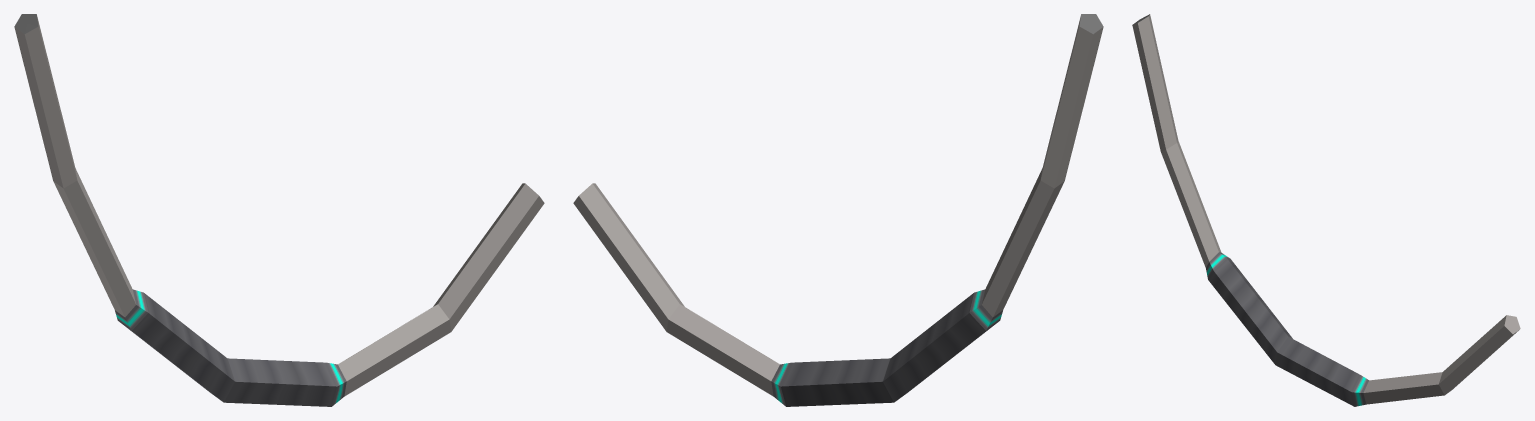
File: SM_Prop_Wires_05.fbx
The picture shows the model from 3 angles, left to right: view 1: azimuth 30°, elevation 25°; view 2: azimuth 150°, elevation 25°; view 3: azimuth 330°, elevation 25°; orthographic projection. The views are drawn at different scales.
Parts seen in each view (by area): view 1: SM_Prop_Wires_05; view 2: SM_Prop_Wires_05; view 3: SM_Prop_Wires_05.
Boxes of the visible parts, <box> form: SM_Prop_Wires_05: <box>14,14,544,406</box>; SM_Prop_Wires_05: <box>573,14,1103,406</box>; SM_Prop_Wires_05: <box>1132,14,1520,406</box>.
Size of the model in its own units: 71.6 by 60.3 by 5.49.
